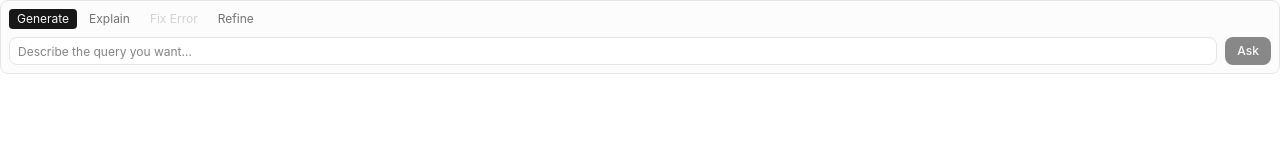
Test: AiPromptBar — explain mode › shows text result (not SQL buttons) for explain mode
Step 1. Click the button "explain" → (110, 19), box [81,9,138,29]
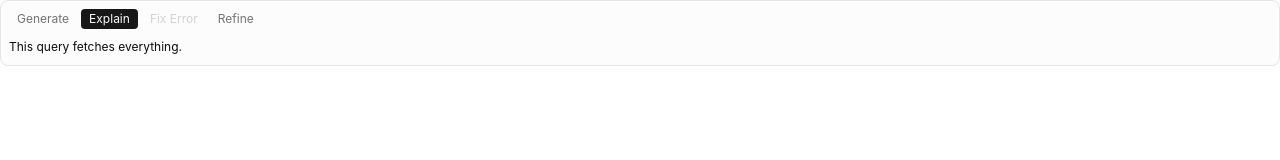
Check: the text "This query fetches everything." is shown, box [9,39,182,54]
